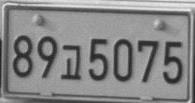0: (112, 37, 133, 82)
5: (161, 40, 183, 85), (87, 37, 108, 81)
7: (136, 39, 158, 83)
8: (11, 33, 33, 78)
9: (36, 35, 58, 79)
고: (59, 43, 81, 80)
